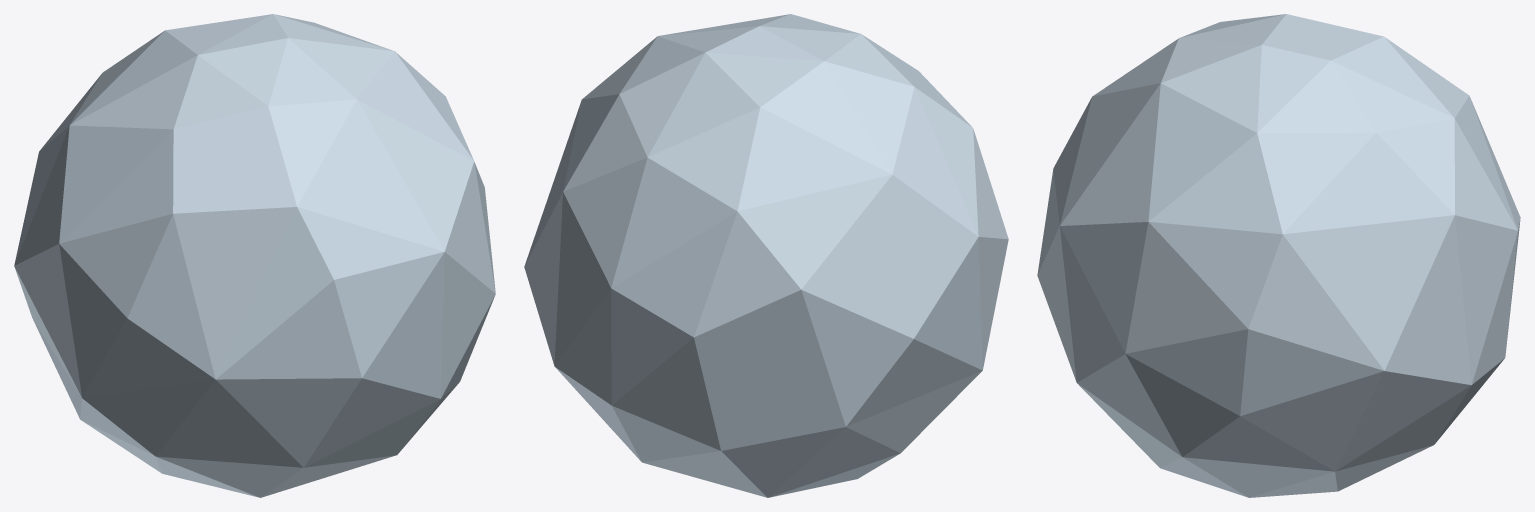
Rendered from Pearl.fbx.
The picture shows the model from 3 angles, left to right: view 1: azimuth 30°, elevation 25°; view 2: azimuth 150°, elevation 25°; view 3: azimuth 270°, elevation 25°; orthographic projection.
Visible parts, largest first — view 1: Sphere; view 2: Sphere; view 3: Sphere.
Part boxes in pixels (box(x1,y1,x2,y2)): Sphere: box(14, 14, 495, 497); Sphere: box(524, 14, 1008, 497); Sphere: box(1037, 14, 1520, 497).
Size of the model in its own units: 199 by 201 by 201.
